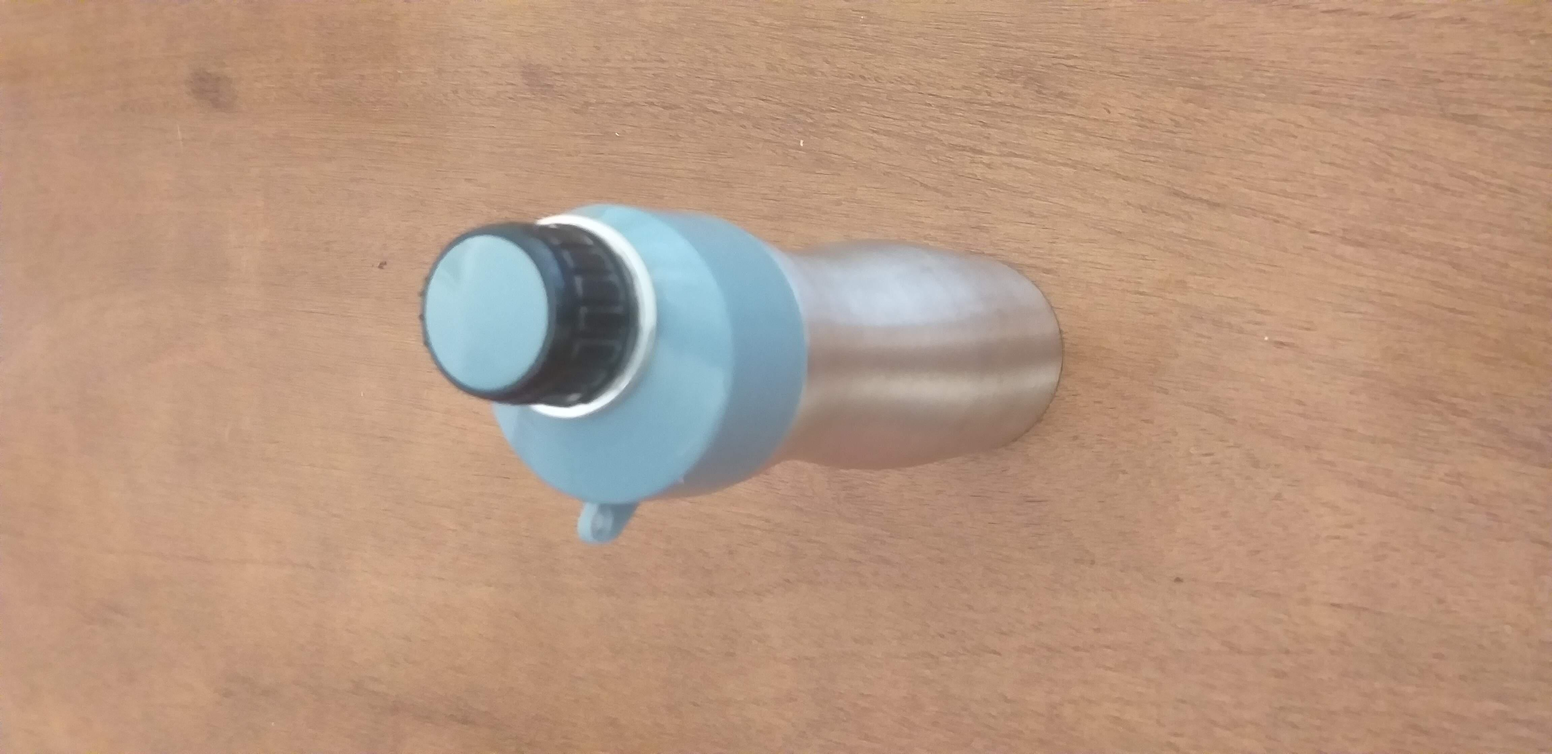gym bottle: (405, 191, 1082, 554)
